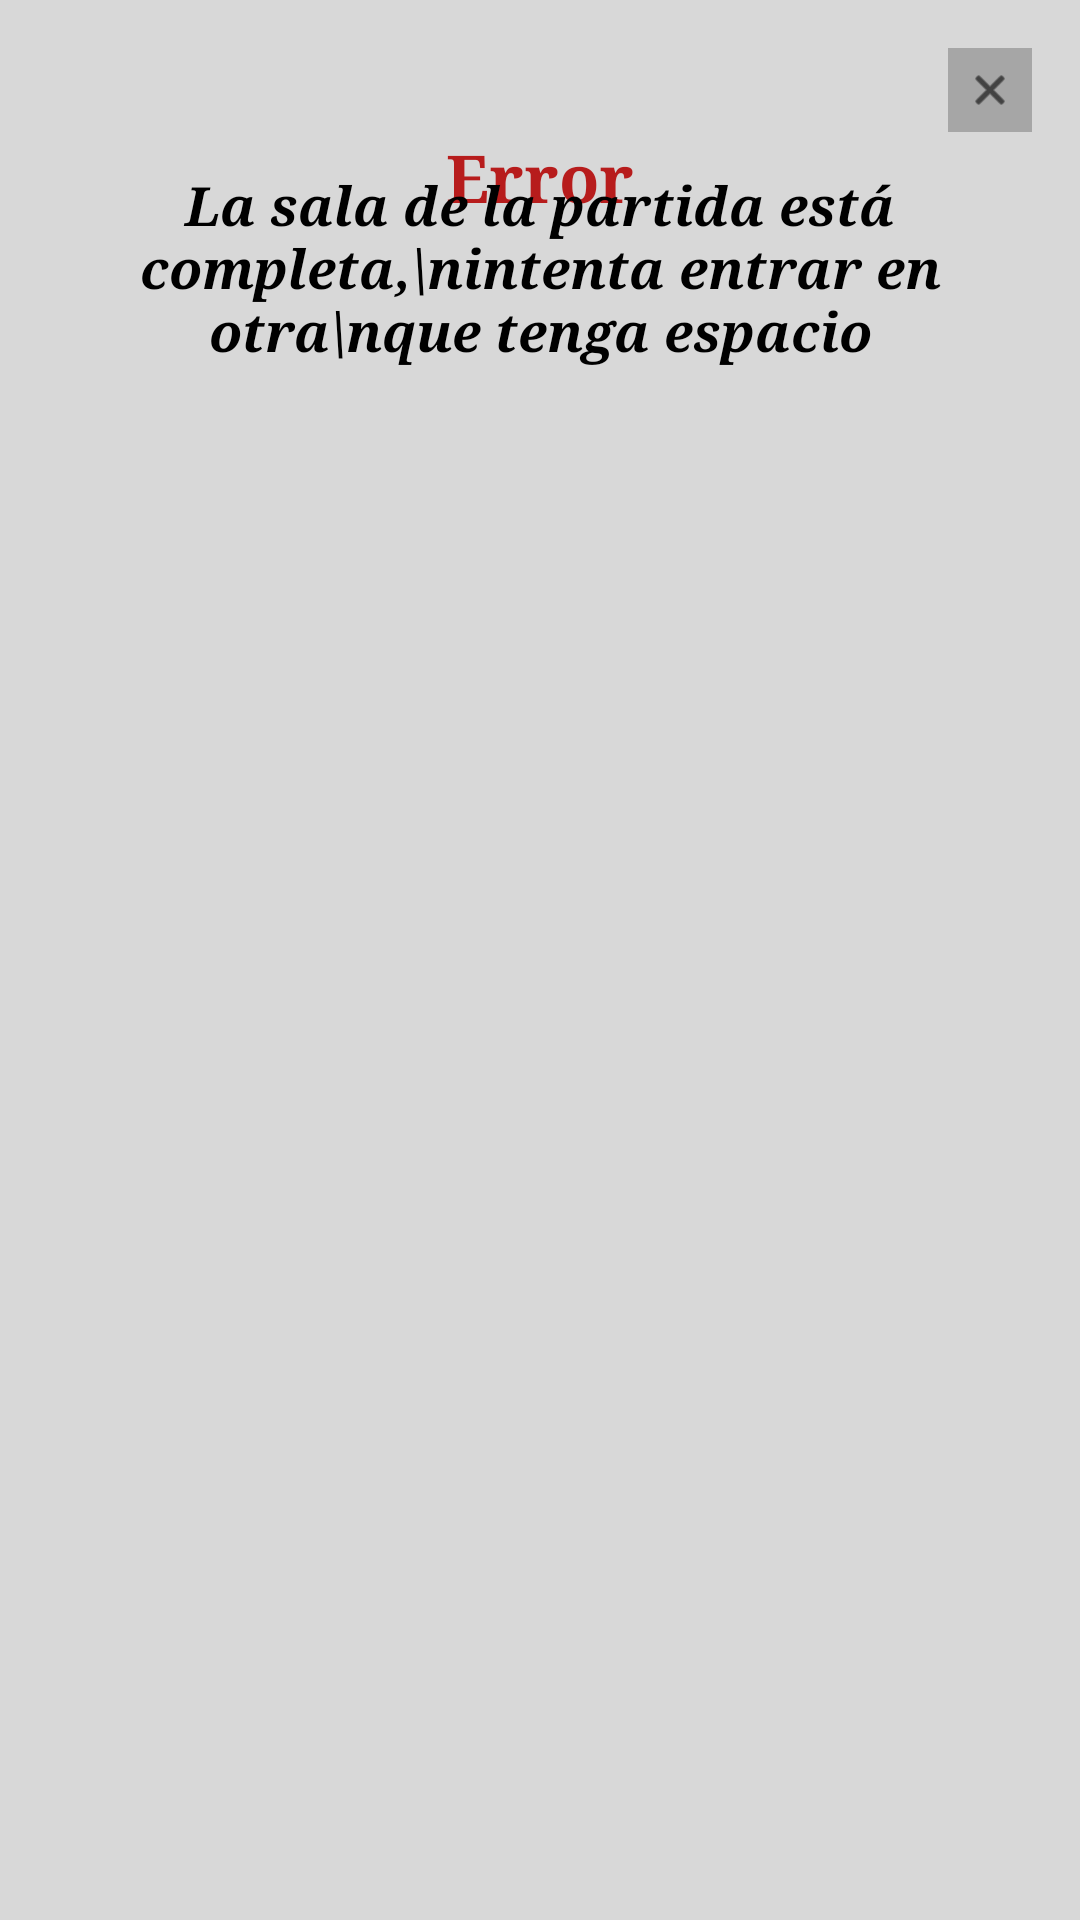

Screen size 1080*1920. Icon name, then its box in pixels as box(x1, y1, x2, y2):
close clear cancel: box(975, 75, 1005, 105)
